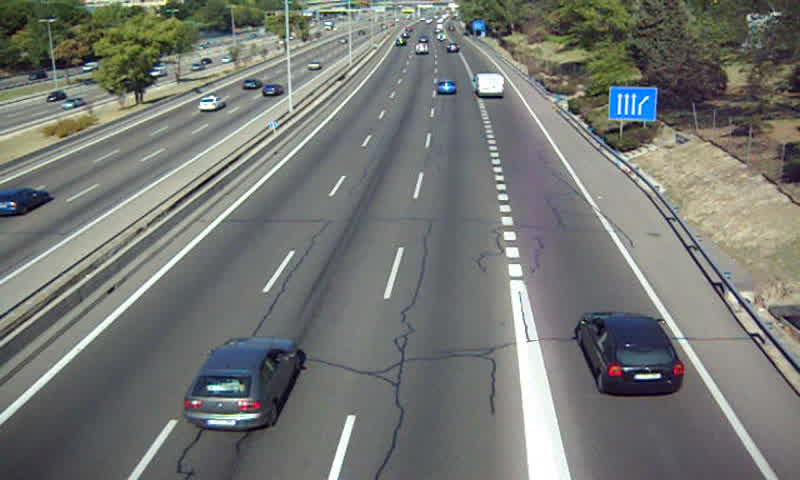car: (183, 338, 300, 432), (577, 313, 683, 395), (435, 80, 457, 97)
van: (472, 73, 504, 99)
